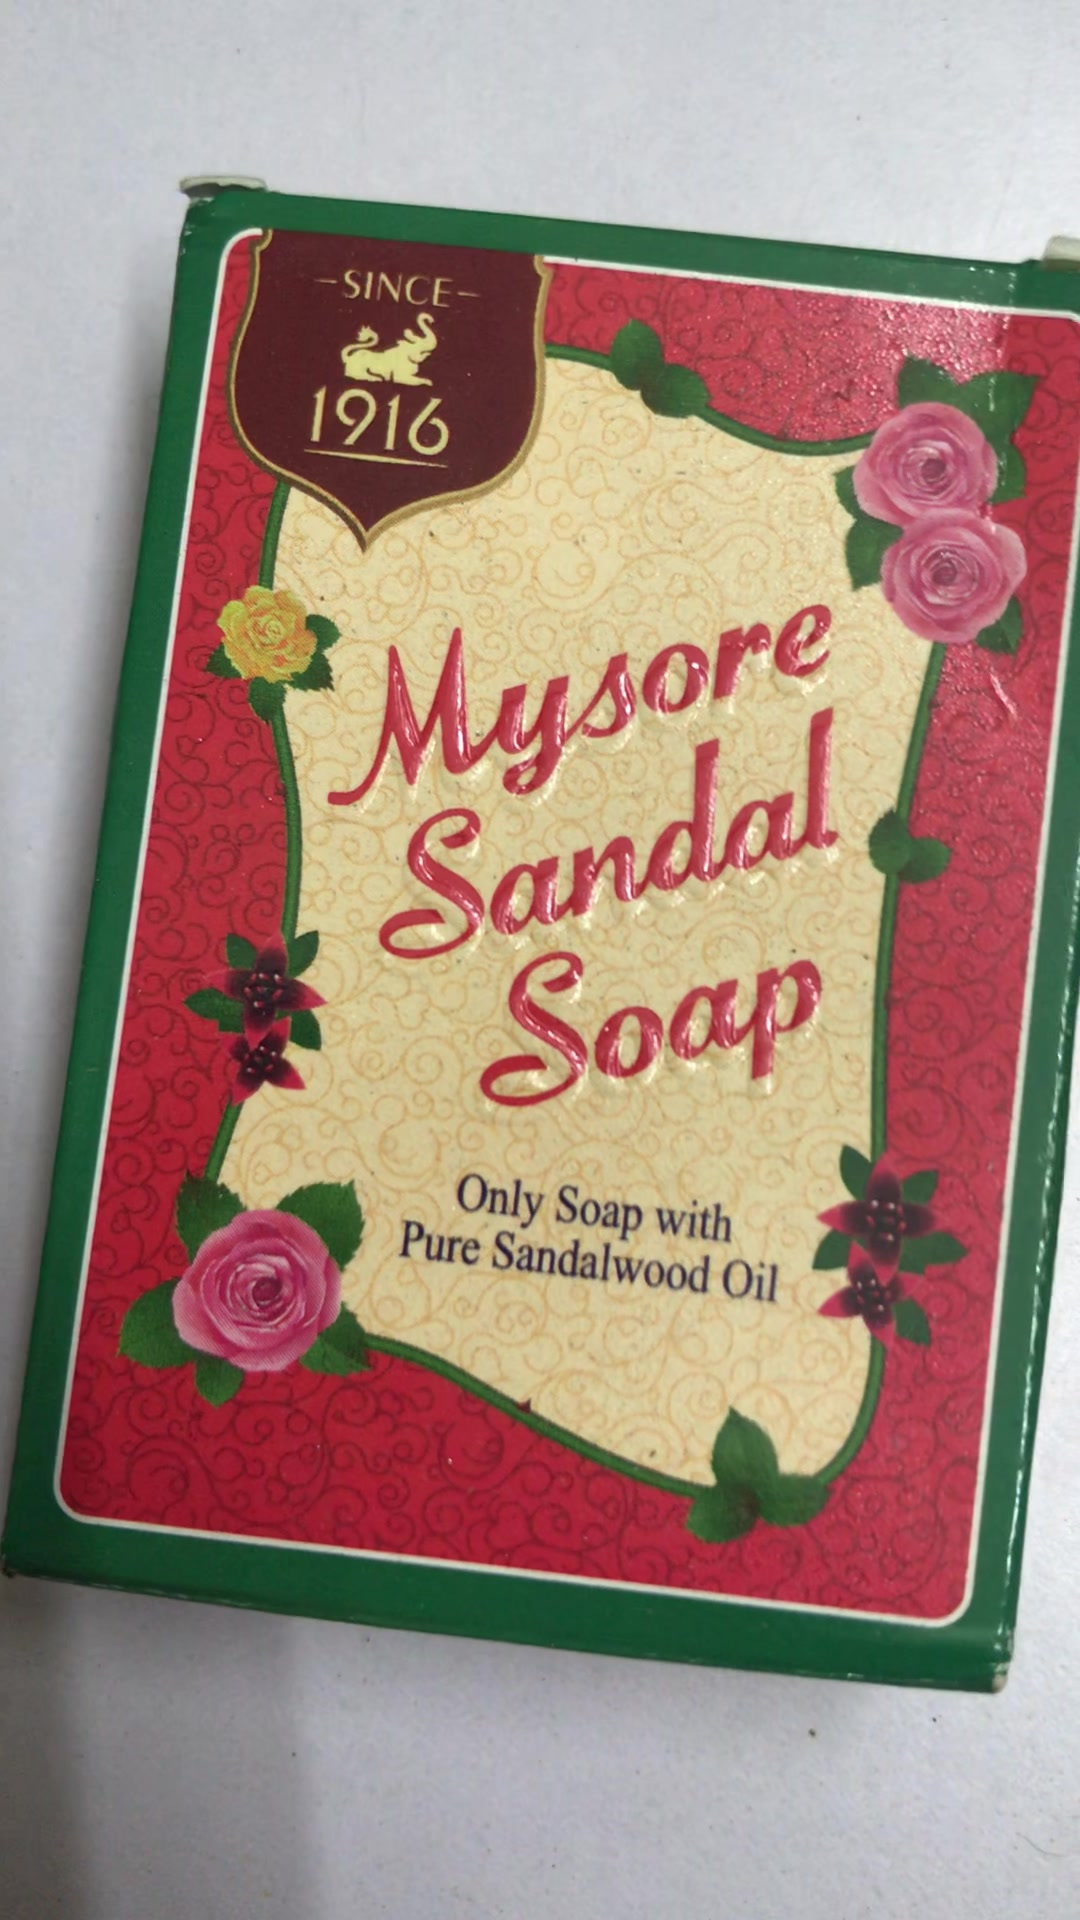mysore sandal soap: (1, 173, 1073, 1692)
